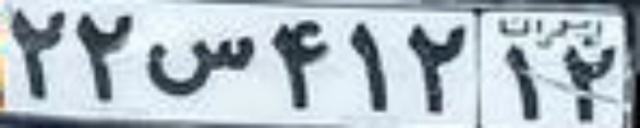1: (346, 19, 392, 111), (500, 45, 542, 119)
2: (403, 25, 470, 113), (71, 13, 136, 101), (7, 9, 63, 99), (563, 42, 620, 121)
3: (267, 16, 333, 108)
sin: (145, 36, 255, 97)
